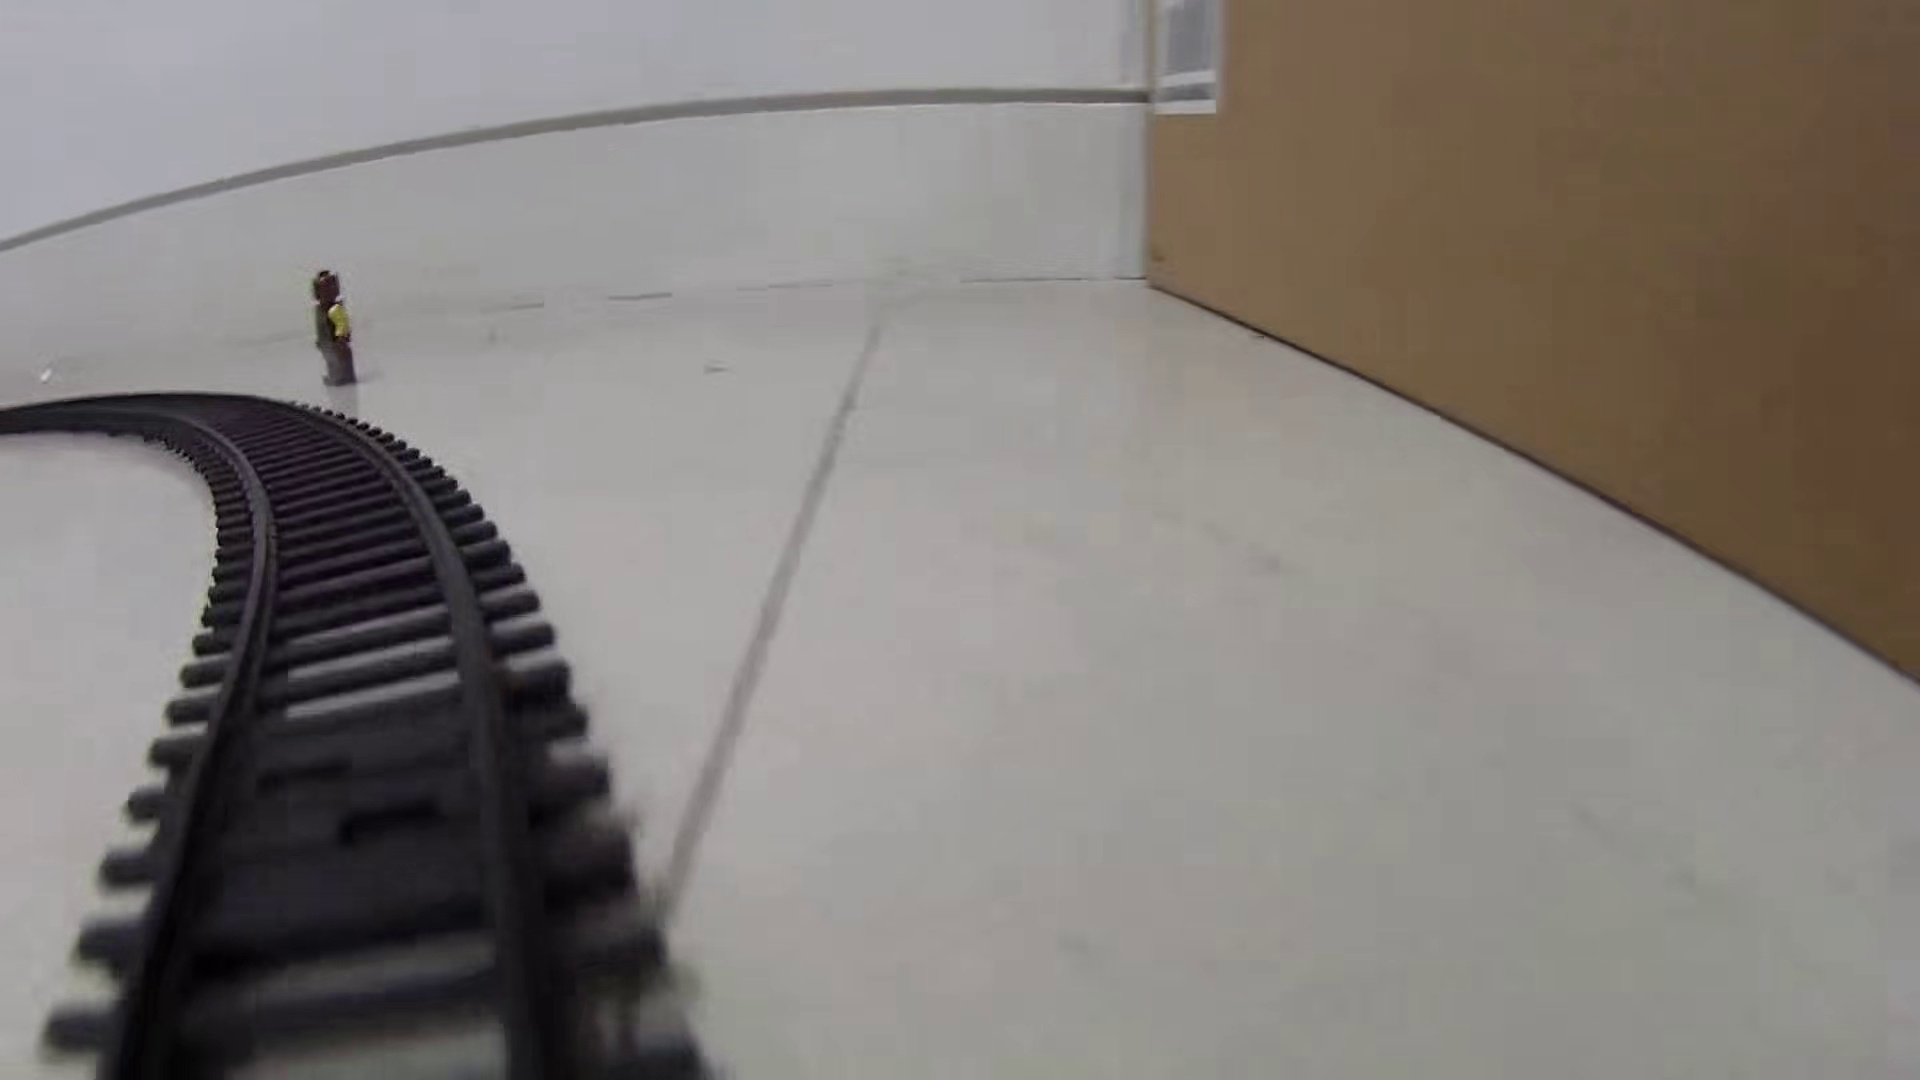people: (307, 266, 362, 389)
